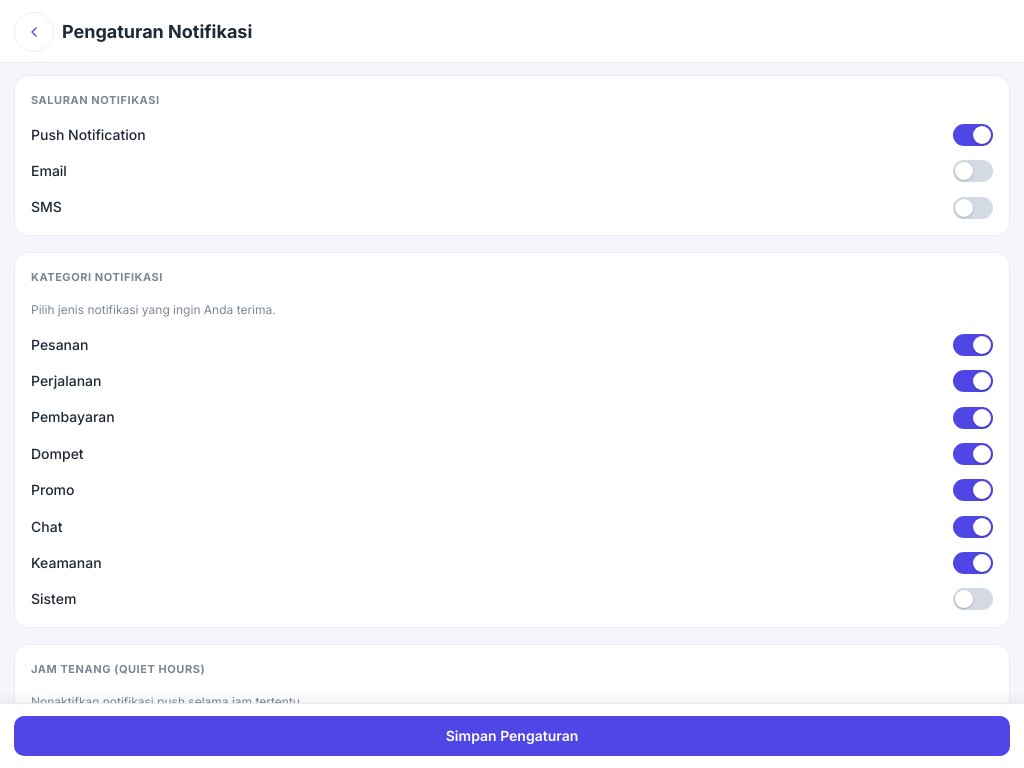
Test: NotificationPreferences — 6E › shows error toast on save failure
Expected: the text "Push Notification" is shown, [31,126,146,143]
Click the button "Simpan Pengaturan" at (512, 736), box [14,716,1010,756]
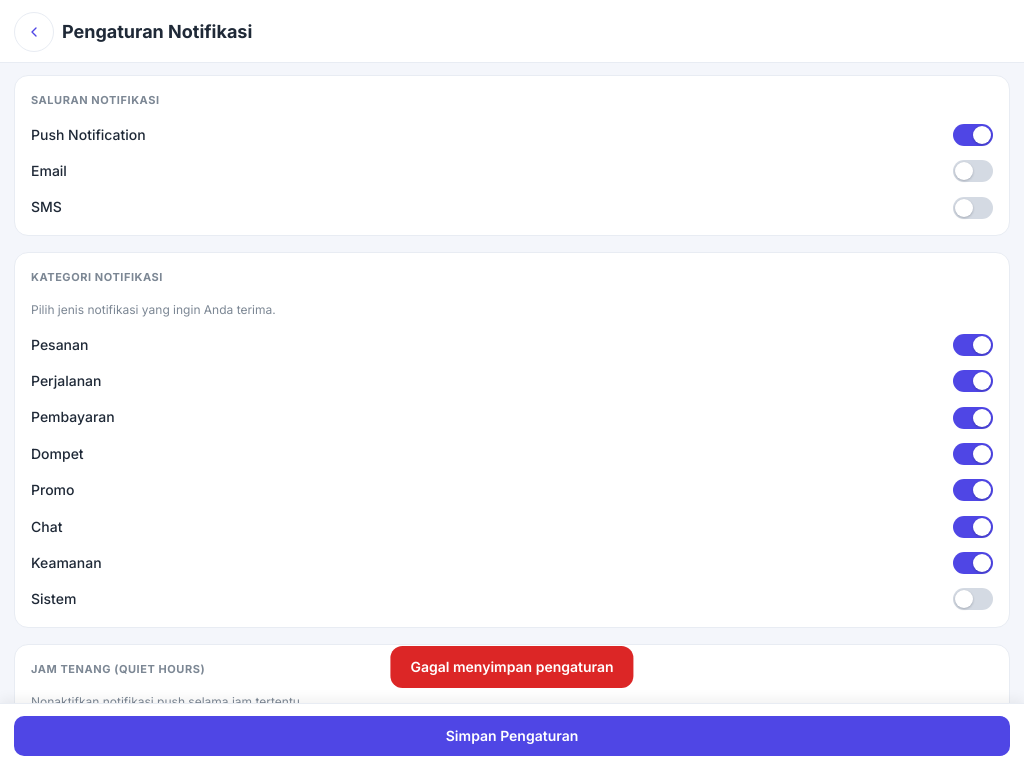
Now the text "Gagal menyimpan pengaturan" is shown, box [390,646,634,688]
